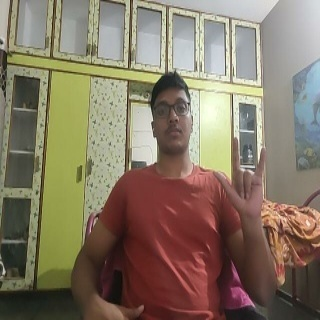Face: (149, 72, 195, 157)
I Love You: (213, 137, 268, 221)
